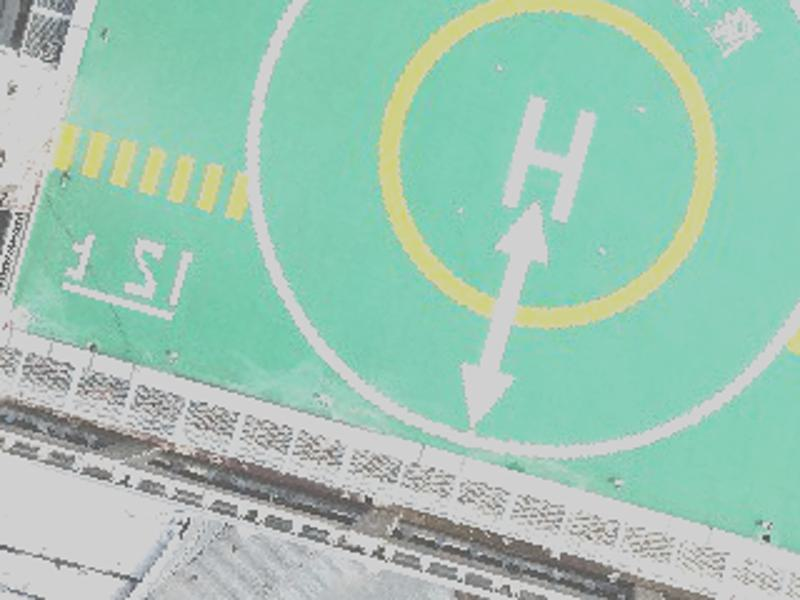Apron: (395, 1, 716, 337)
